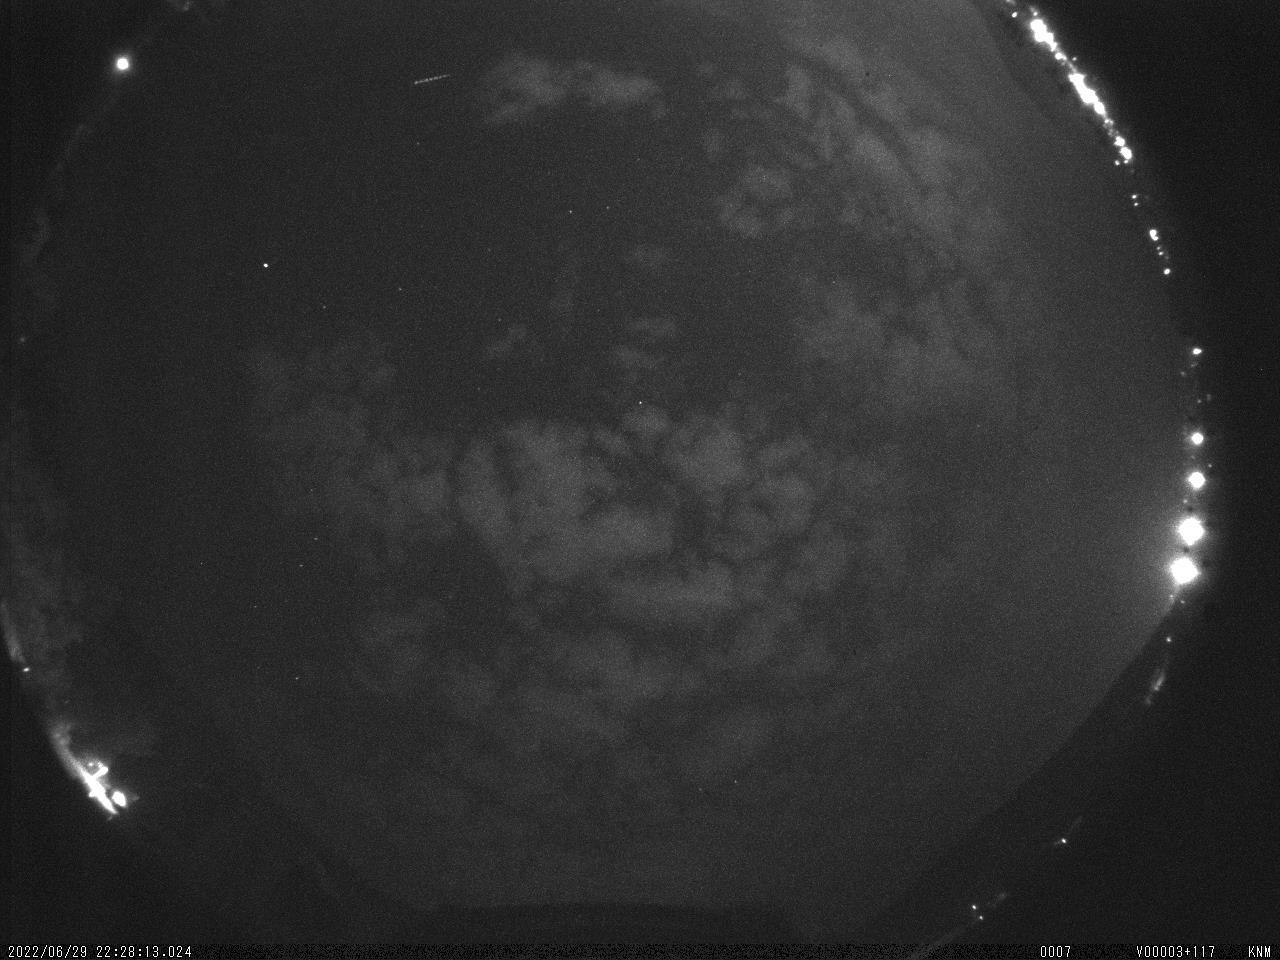Meteor: (401, 64, 462, 95)
